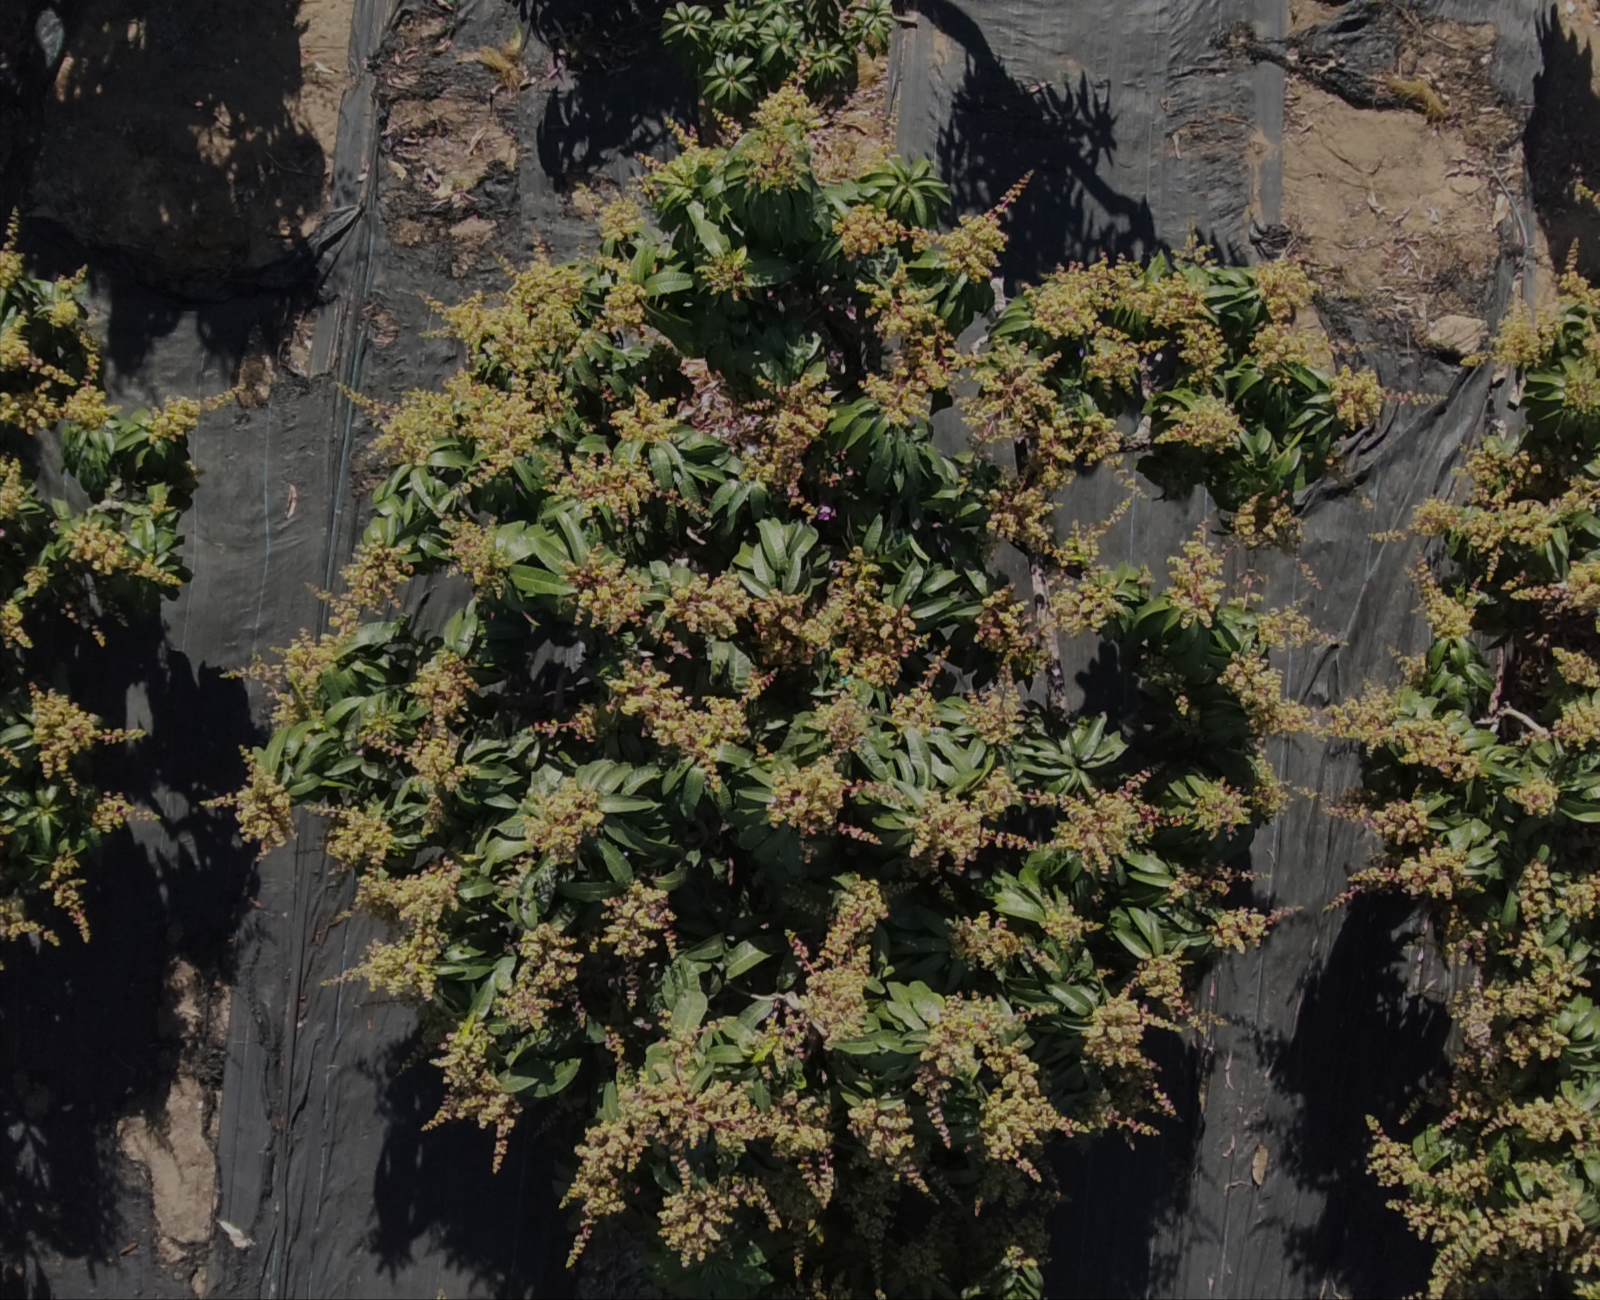flowers: (862, 257, 1166, 572), (366, 256, 678, 513), (564, 1025, 833, 1264), (1370, 1132, 1599, 1297), (663, 549, 923, 687), (230, 540, 413, 727), (913, 994, 1075, 1177), (1260, 655, 1481, 780), (1412, 435, 1599, 580), (909, 769, 1167, 872), (328, 803, 460, 1000), (1022, 257, 1225, 386), (0, 243, 111, 434), (834, 172, 1030, 280), (1490, 245, 1599, 421), (608, 659, 748, 787), (1451, 942, 1589, 1065), (358, 649, 476, 791), (797, 877, 888, 1048), (422, 1017, 521, 1171), (564, 1082, 643, 1266), (747, 371, 833, 513), (1083, 956, 1191, 1067), (1252, 257, 1351, 375), (657, 1175, 780, 1266), (31, 684, 145, 777), (149, 354, 273, 439), (766, 752, 878, 842), (553, 455, 702, 519), (202, 748, 292, 852), (499, 923, 582, 1029), (317, 540, 413, 631), (742, 82, 819, 191), (64, 516, 180, 586), (639, 115, 724, 206), (848, 1098, 927, 1191), (1329, 366, 1435, 432), (525, 777, 604, 864), (975, 585, 1045, 679), (568, 547, 643, 633), (1351, 844, 1470, 898), (600, 879, 674, 958), (1166, 527, 1223, 627), (1463, 432, 1542, 501), (314, 803, 393, 870), (1516, 860, 1599, 921), (1156, 393, 1240, 451), (1412, 558, 1474, 637), (1325, 799, 1429, 845), (448, 519, 509, 597), (1503, 558, 1599, 608), (42, 848, 89, 941), (570, 183, 643, 241), (949, 911, 1022, 970), (1252, 256, 1315, 322), (892, 655, 945, 732), (1209, 907, 1294, 952), (1230, 493, 1301, 547), (746, 1012, 807, 1071), (1256, 605, 1339, 647), (610, 387, 674, 442), (1167, 865, 1256, 903), (965, 686, 1023, 744), (815, 690, 868, 752), (601, 260, 645, 332), (1194, 779, 1250, 834), (1136, 954, 1187, 1013), (697, 245, 752, 298), (0, 891, 57, 942), (1041, 899, 1099, 948), (92, 792, 159, 832), (1552, 690, 1599, 747), (1251, 753, 1290, 818), (1443, 906, 1486, 963), (532, 704, 597, 742), (49, 267, 85, 326), (1506, 777, 1558, 816), (0, 208, 23, 291), (1552, 647, 1599, 687), (1171, 227, 1217, 265), (0, 456, 27, 520), (0, 600, 31, 647), (857, 50, 888, 89), (1394, 651, 1426, 684), (742, 669, 773, 699), (422, 793, 444, 834), (809, 1277, 854, 1297), (23, 565, 49, 596), (1018, 1002, 1057, 1021), (605, 1025, 625, 1064), (1323, 890, 1355, 909), (1370, 528, 1406, 543), (0, 746, 19, 765), (0, 821, 13, 842), (0, 775, 11, 791)
